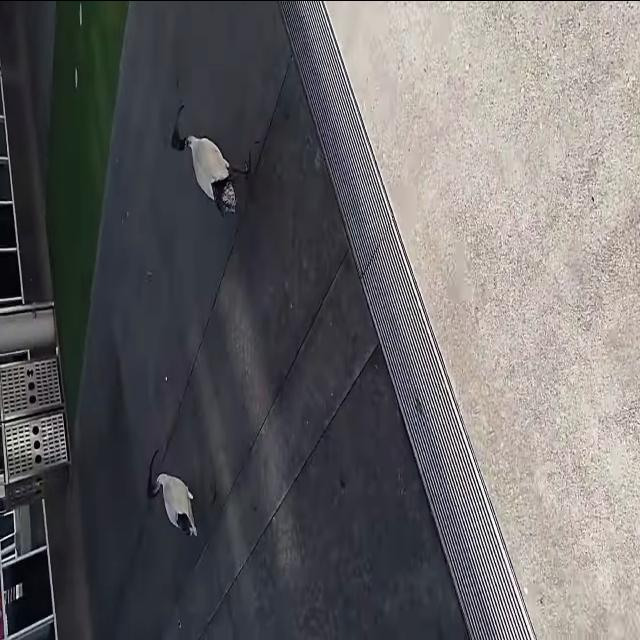Birds-Ibis: (164, 97, 255, 224), (141, 441, 220, 544)
